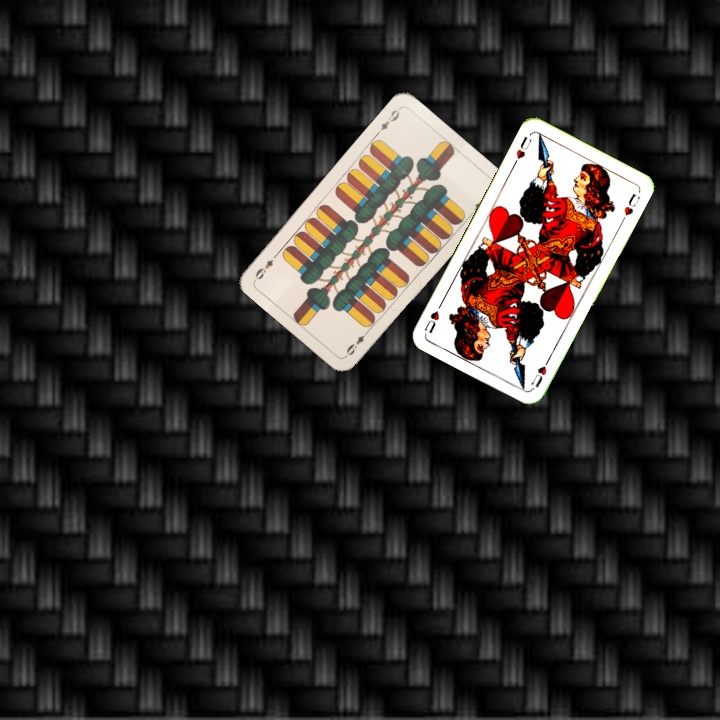E9: (342, 325, 372, 359), (373, 104, 403, 137)
HU: (527, 353, 553, 390), (509, 132, 534, 168)
